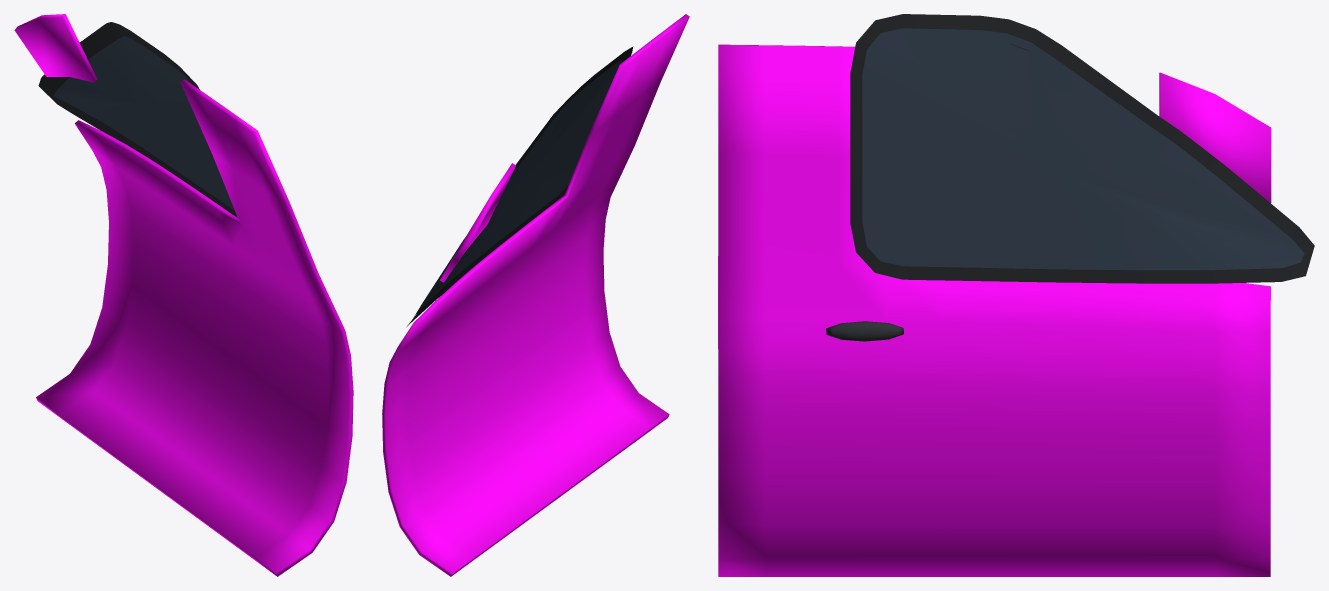
File: car-door-estate.obj
3 renders of one model, left to right at view 1: azimuth 30°, elevation 25°; view 2: azimuth 150°, elevation 25°; view 3: azimuth 270°, elevation 25°, orthographic. The views are drawn at different scales.
Visible parts, largest first — view 1: door, door_win_front.1.nocast, door_frame.win_front.1.nocast; view 2: door, door_win_front.1.nocast, door_frame.win_front.1.nocast; view 3: door, door_win_front.1.nocast, door_frame.win_front.1.nocast, door.handle.nocast.
Part boxes in pixels (x1,y1,x2,y2): door: (14, 14, 353, 576); door_win_front.1.nocast: (54, 36, 234, 210); door_frame.win_front.1.nocast: (38, 22, 237, 217); door: (382, 14, 689, 576); door_win_front.1.nocast: (413, 60, 621, 317); door_frame.win_front.1.nocast: (407, 46, 633, 326); door: (718, 44, 1271, 576); door_win_front.1.nocast: (862, 28, 1304, 270); door_frame.win_front.1.nocast: (850, 14, 1314, 283); door.handle.nocast: (826, 321, 903, 341).
Bounding box in the file's own units: 0.2827 × 1.17 × 1.17.
